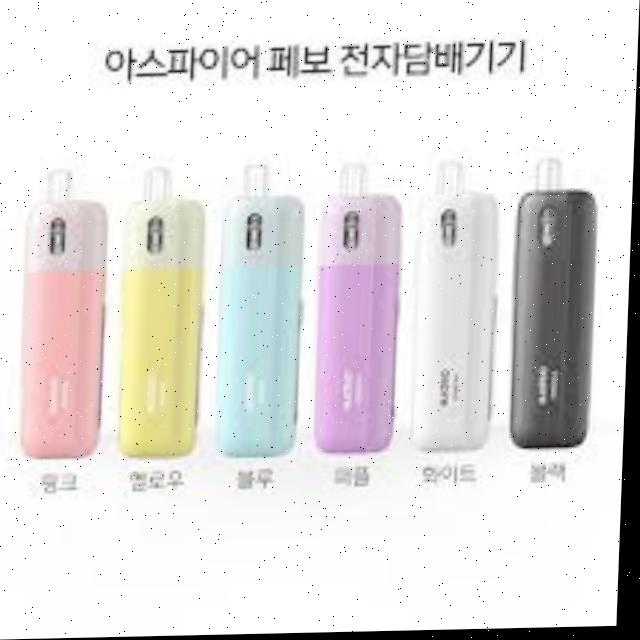vape: (21, 171, 112, 460), (510, 161, 600, 453), (222, 165, 310, 458), (418, 164, 505, 454), (320, 162, 406, 455), (125, 168, 211, 460)
